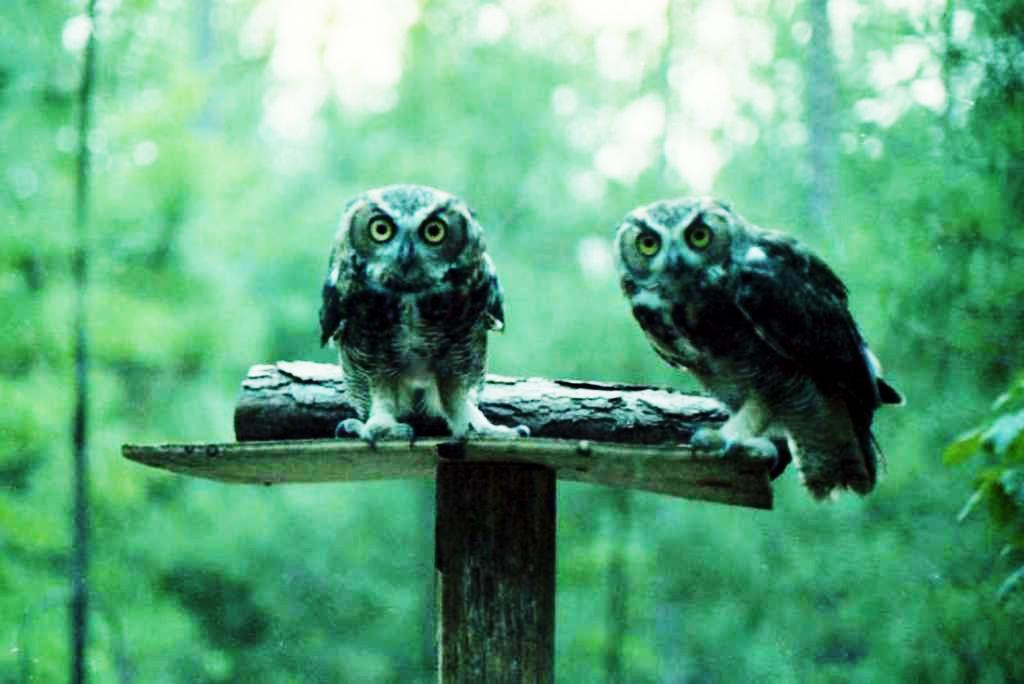Owl: (610, 195, 904, 512), (312, 178, 534, 448)
